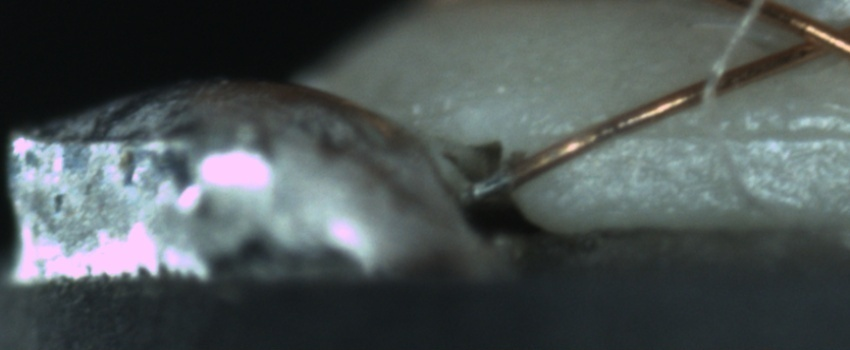CL: (759, 2, 850, 68)
DL: (557, 99, 850, 164)
TS: (467, 167, 516, 200)
